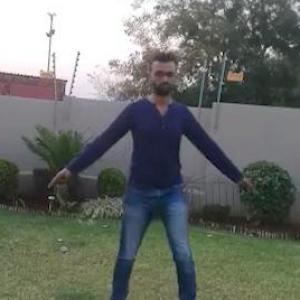land: (63, 56, 252, 299)
